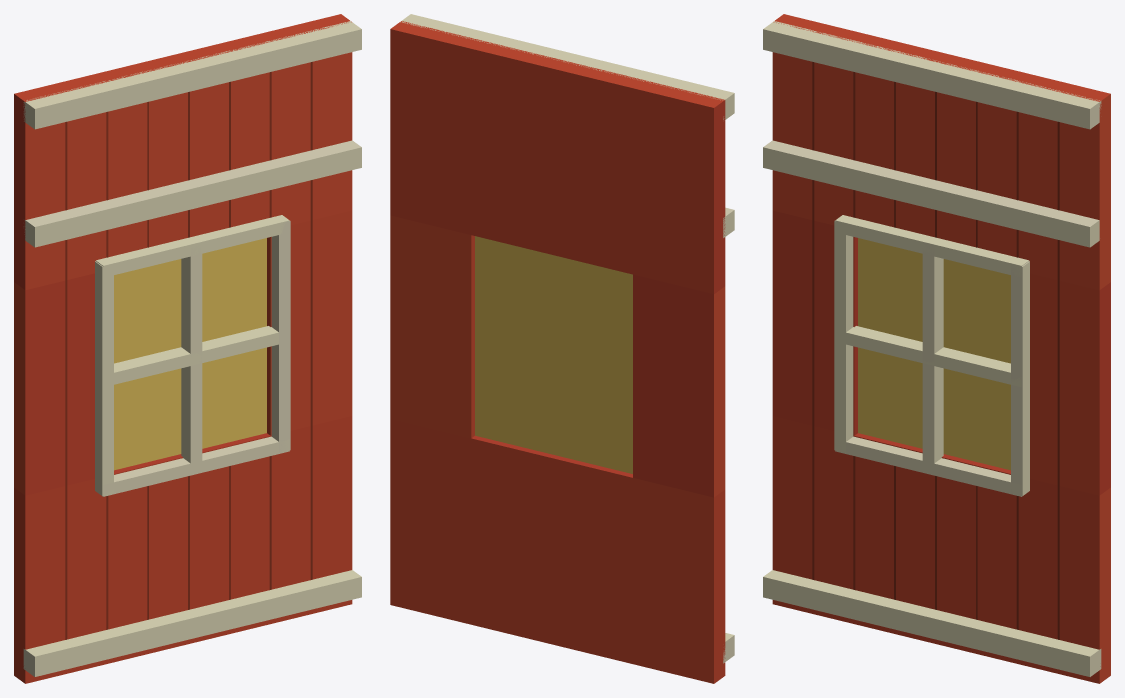
Rendered from N01_WindowWall_2m.fbx.
3 views of the same model, side by side, from view 1: azimuth 30°, elevation 25°; view 2: azimuth 150°, elevation 25°; view 3: azimuth 330°, elevation 25° (orthographic).
Visible parts, largest first — view 1: N01_WindowWall_2m.019; view 2: N01_WindowWall_2m.019; view 3: N01_WindowWall_2m.019.
Boxes of the visible parts, box(x1,y1,x2,y2) form: N01_WindowWall_2m.019: box(14, 14, 361, 683); N01_WindowWall_2m.019: box(390, 14, 734, 683); N01_WindowWall_2m.019: box(763, 14, 1110, 683).
Bounding box in the file's own units: 2 × 3.4 × 0.22.
